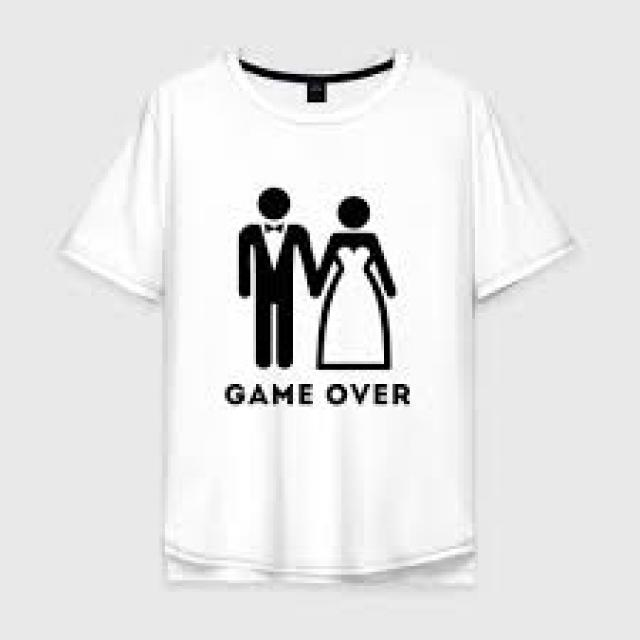Shirt: (65, 39, 567, 606)
